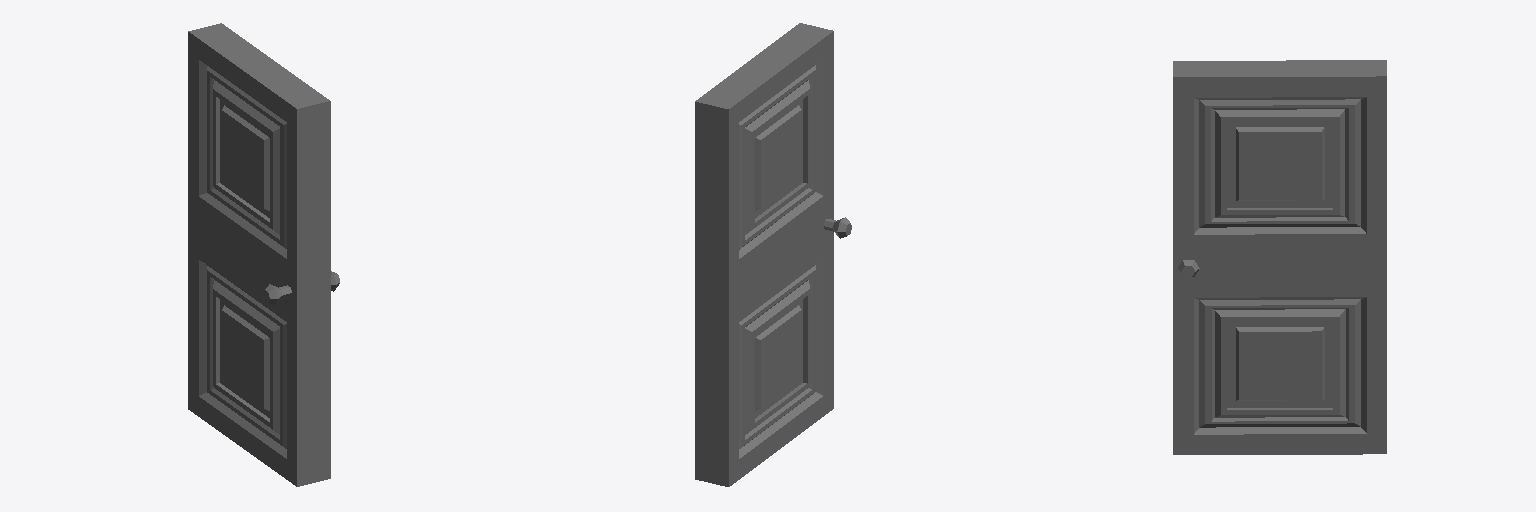
The model's file is Porta.obj.
3 views of the same model, side by side, from view 1: azimuth 30°, elevation 25°; view 2: azimuth 150°, elevation 25°; view 3: azimuth 270°, elevation 25° (orthographic).
Visible parts, largest first — view 1: group79; view 2: group79; view 3: group79.
Part boxes in pixels (x1,y1,x2,y2): group79: (188,23,339,486); group79: (695,23,851,486); group79: (1173,60,1386,454).
Bounding box in the file's own units: 0.9171 × 4.71 × 2.42.